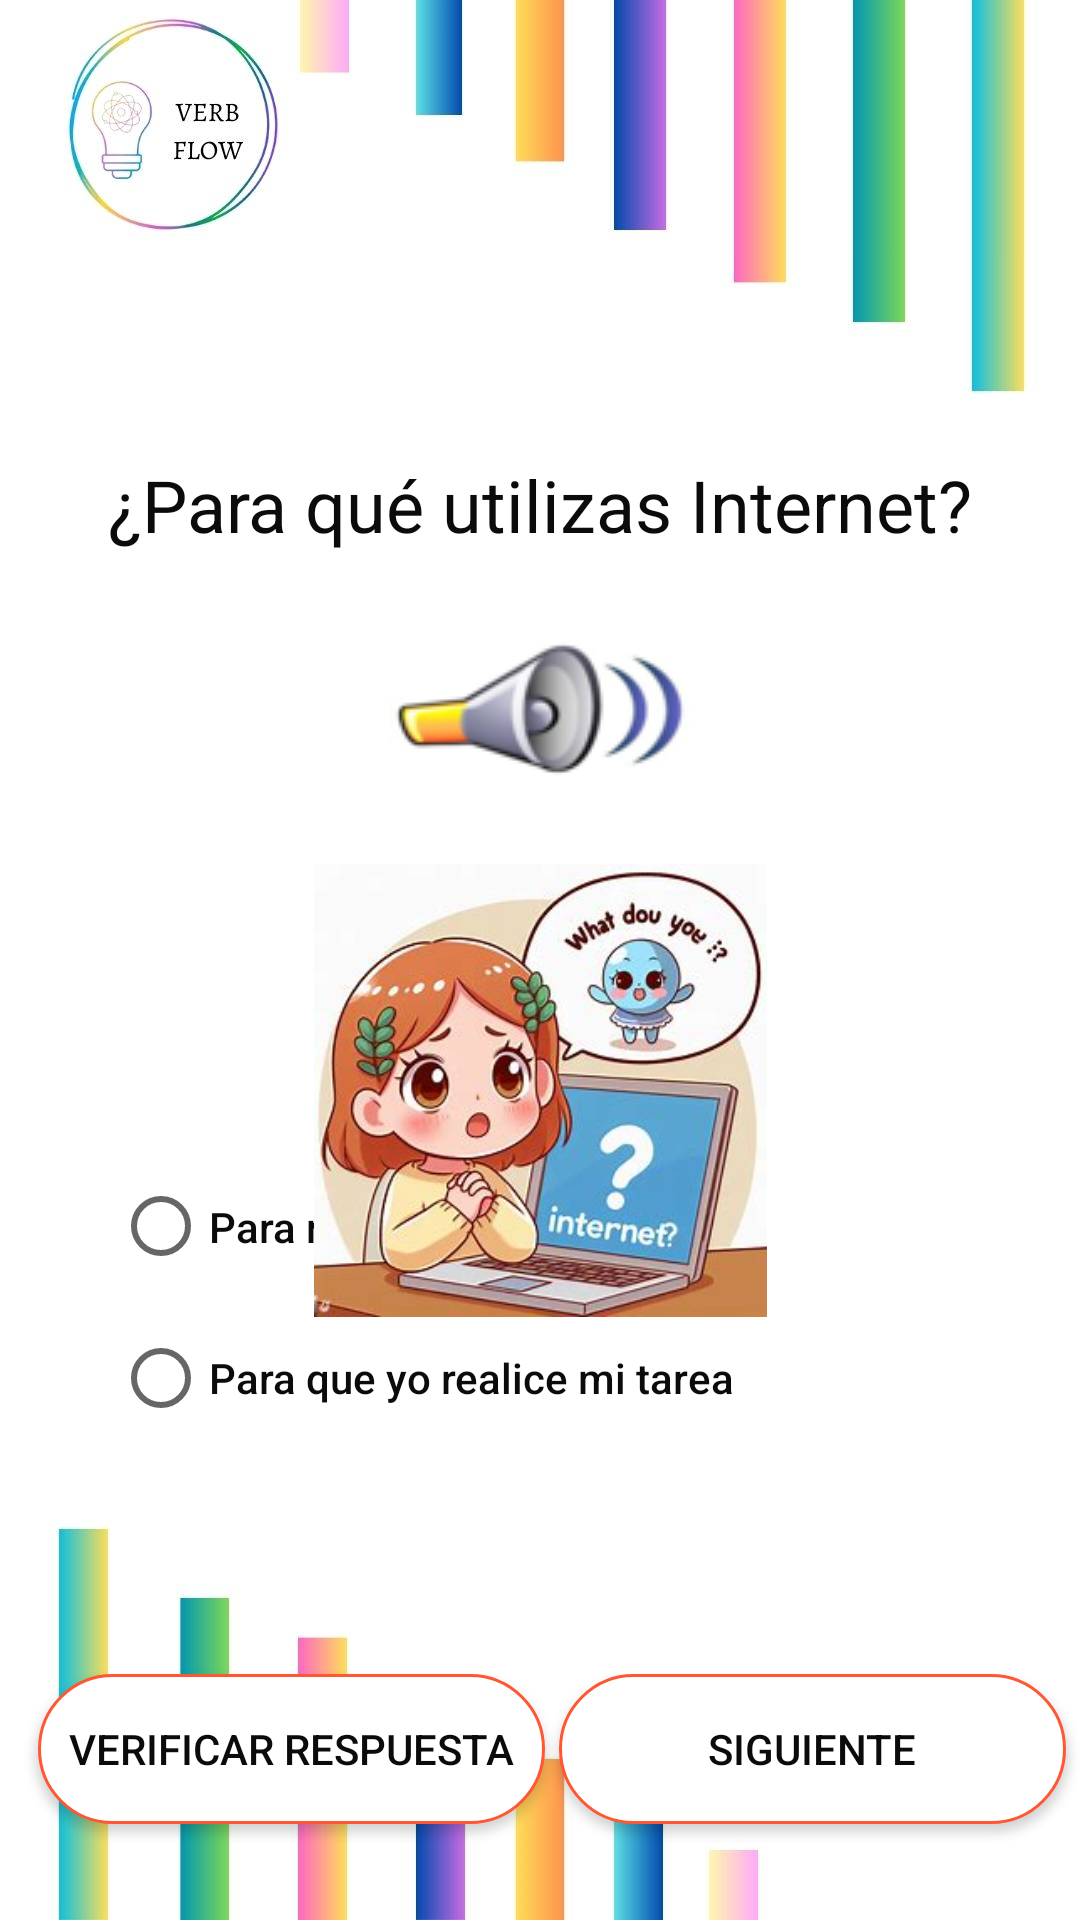

Icons on this 1080 × 1920 Android screen, each with its box as (x1, y1, x2, y2):
altavoz: (397, 645, 682, 773)
